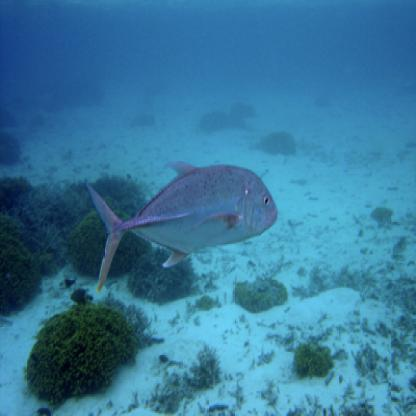jack: (88, 151, 286, 298)
